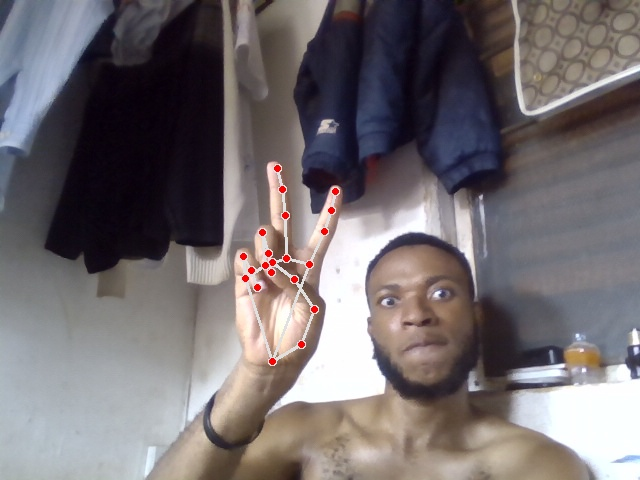peace: (234, 159, 343, 373)
